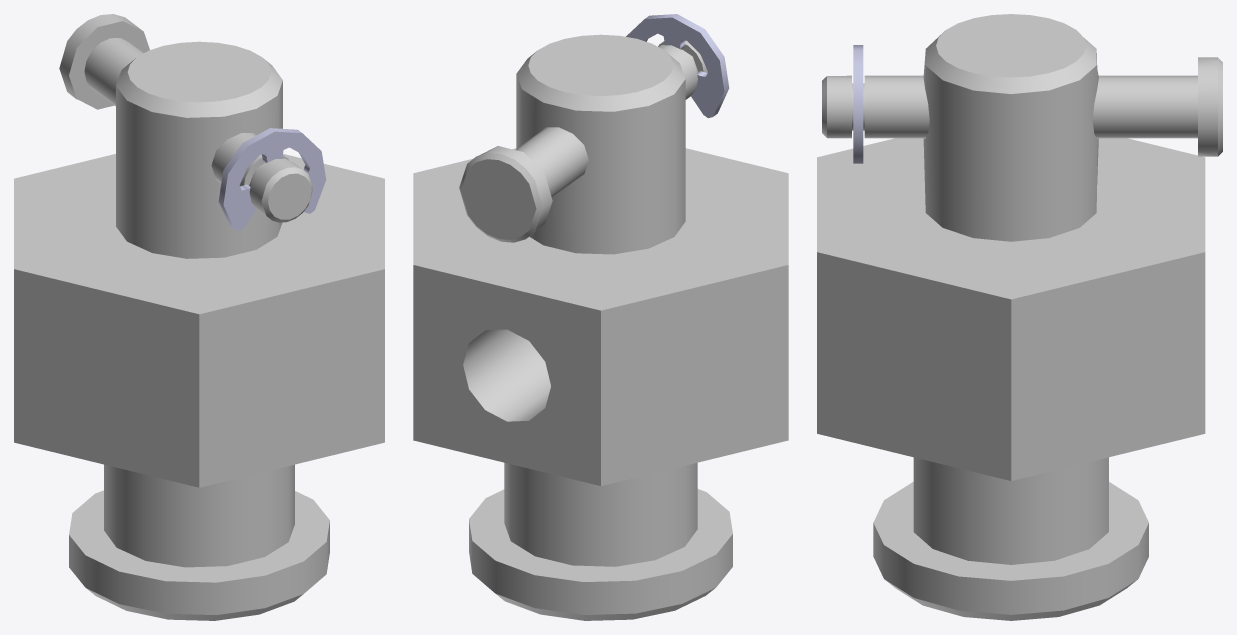
The model's file is contact.dae.
The picture shows the model from 3 angles, left to right: view 1: azimuth 30°, elevation 25°; view 2: azimuth 150°, elevation 25°; view 3: azimuth 270°, elevation 25°; orthographic projection. The views are drawn at different scales.
Visible parts, largest first — view 1: __001; view 2: __001; view 3: __001.
Part boxes in pixels (box(x1,y1,x2,y2)): __001: box(14, 14, 384, 620); __001: box(413, 14, 788, 620); __001: box(817, 14, 1222, 620).
Bounding box in the file's own units: 17.9 × 16.2 × 23.
